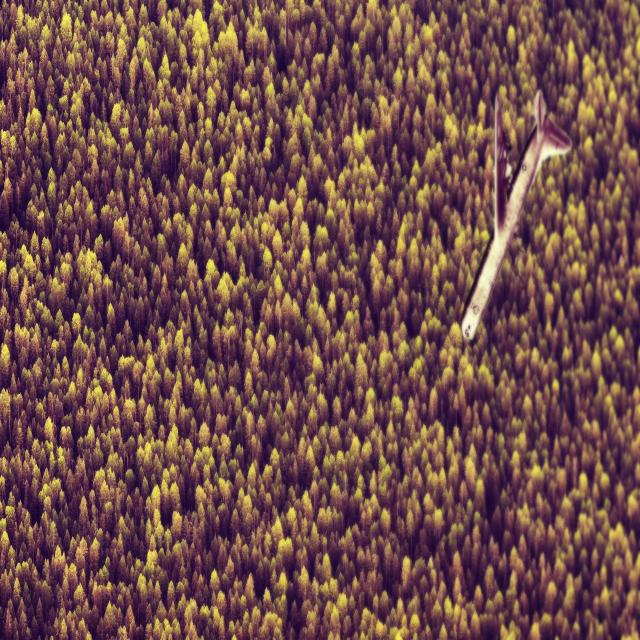airplane: (460, 87, 572, 341)
